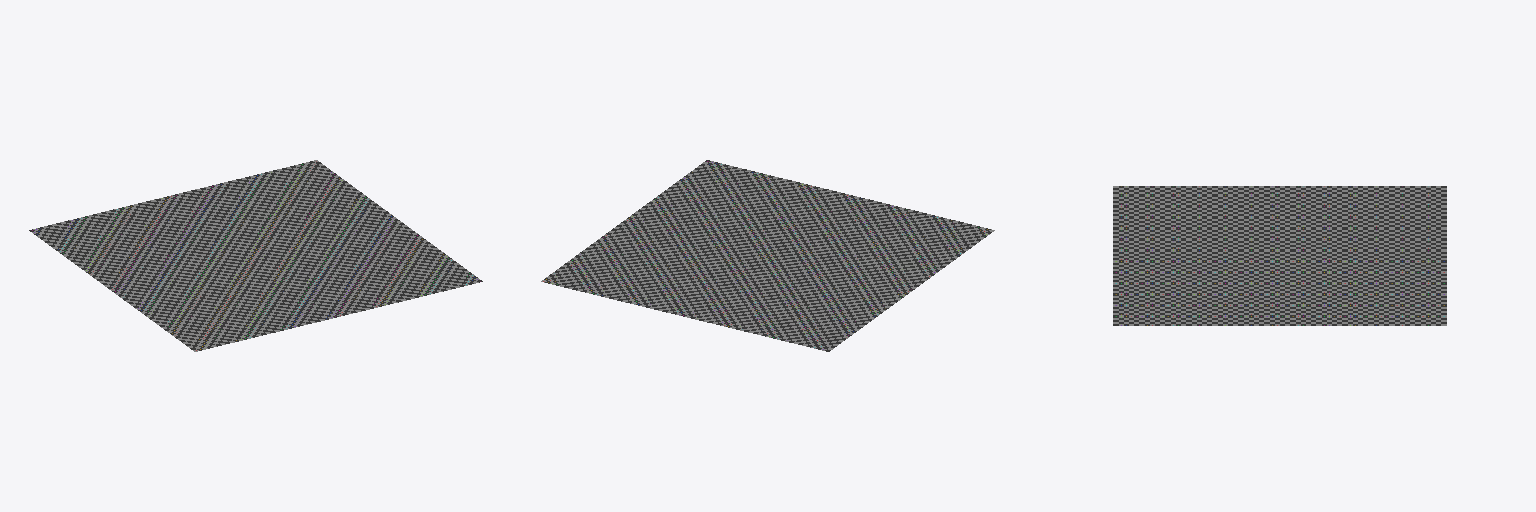
The picture shows the model from 3 angles: view 1: azimuth 30°, elevation 25°; view 2: azimuth 150°, elevation 25°; view 3: azimuth 270°, elevation 25°; orthographic projection.
Visible parts, largest first — view 1: Plane; view 2: Plane; view 3: Plane.
Part boxes in pixels (x1,y1,x2,y2): Plane: (29, 160, 482, 351); Plane: (541, 160, 994, 351); Plane: (1113, 186, 1446, 325).
Size of the model in its own units: 2 by 0 by 2.
Materials: 1 (1 with a texture image).